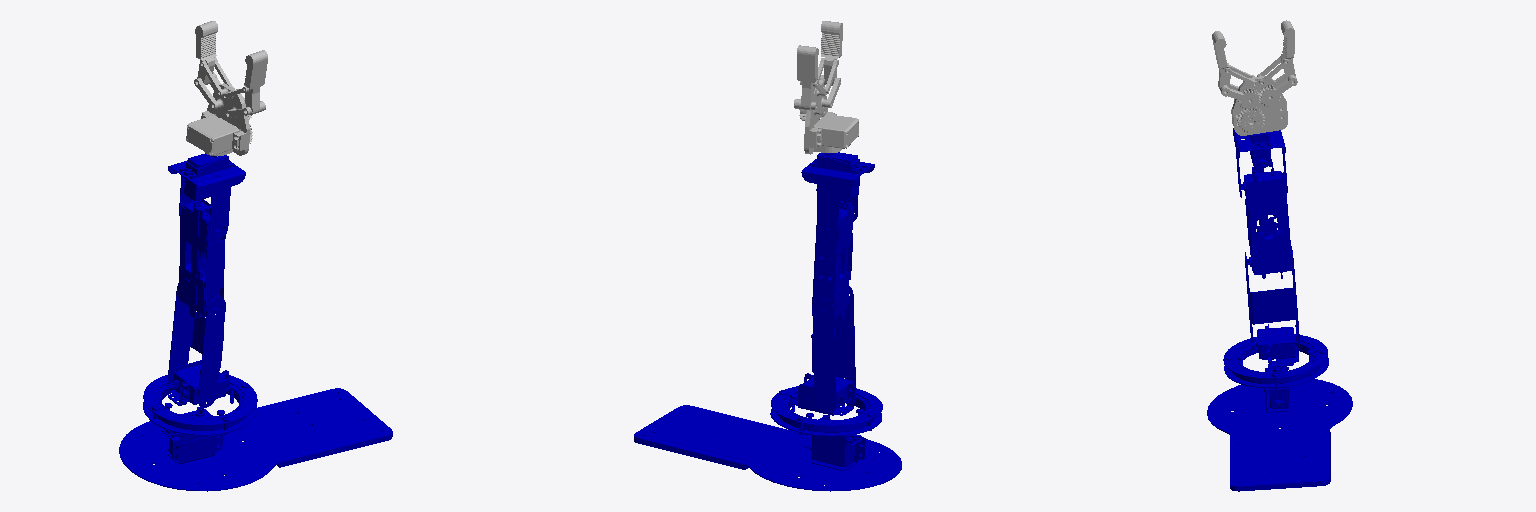
The robot description file, URDF, robot "robotic_arm":
<?xml version="1.0" encoding="utf-8"?>
<robot name="robotic_arm">

  <!-- Material Definitions -->
  <material name="blue">
    <color rgba="0.0 0.0 0.8 1"/>
  </material>
  <material name="silver">
    <color rgba="0.75 0.75 0.75 1"/>
  </material>

  <!-- World Link -->
  <link name="world"/>

  <!-- Base Joint -->
  <joint name="world_to_base" type="fixed">
    <parent link="world"/>
    <child link="base_link"/>
    <origin xyz="0 0 0" rpy="1.5 1.5 1.5"/>
  </joint>

  <!-- Base Link -->
  <link name="base_link">
    <inertial>
      <origin xyz="-0.035398 -0.0004353 0.027453" rpy="0 0 0"/>
      <mass value="0.39671"/>
      <inertia
        ixx="0.00092742"
        ixy="-4.6465E-07"
        ixz="3.0759E-08"
        iyy="0.00057216"
        iyz="1.5079E-07"
        izz="0.00037377"/>
    </inertial>
    <visual>
      <origin xyz="0 0 0" rpy="0 0 0"/>
      <geometry>
        <mesh filename="package://arm_description/meshes/base_link.STL"/>
      </geometry>
      <material name="blue"/>
    </visual>
    <collision>
      <origin xyz="0 0 0" rpy="0 0 0"/>
      <geometry>
        <mesh filename="package://arm_description/meshes/base_link.STL"/>
      </geometry>
    </collision>
  </link>

  <!-- Rotating Base Link -->
  <link name="rotating_base_link">
    <inertial>
      <origin xyz="0.000158275887253499 0.027492254844178 -0.00611871263232042" rpy="0 0 0"/>
      <mass value="0.0561612792514196"/>
      <inertia
        ixx="9.9128401791064E-06"
        ixy="2.12663345089064E-11"
        ixz="3.39707661438049E-08"
        iyy="1.76973775421821E-05"
        iyz="4.60310716010097E-07"
        izz="1.32217491388007E-05"/>
    </inertial>
    <visual>
      <origin xyz="0 0 0" rpy="0 0 0"/>
      <geometry>
        <mesh filename="package://arm_description/meshes/rotating_base_link.STL"/>
      </geometry>
      <material name="blue"/>
    </visual>
    <collision>
      <origin xyz="0 0 0" rpy="0 0 0"/>
      <geometry>
        <mesh filename="package://arm_description/meshes/rotating_base_link.STL"/>
      </geometry>
    </collision>
  </link>

  <!-- Rotating Base Joint -->
  <joint name="rotating_base_joint" type="revolute">
    <origin xyz="-0.0466999999999999 0 0" rpy="0 -1.52754450035515 1.5707963267949"/>
    <parent link="base_link"/>
    <child link="rotating_base_link"/>
    <axis xyz="0 1 0"/>
    <limit lower="-1.57" upper="1.220" effort="100" velocity="2"/>
  </joint>

  <!-- Shoulder Link -->
  <link name="shoulder_link">
    <inertial>
      <origin xyz="0.05 0.00141746277739371 -0.00395375026056261" rpy="0 0 0"/>
      <mass value="0.0422835365975949"/>
      <inertia
        ixx="2.5539223828081E-05"
        ixy="5.2304284492953E-20"
        ixz="5.09708693455176E-21"
        iyy="3.9772332084034E-05"
        iyz="-6.979081923206E-08"
        izz="5.89921114741114E-05"/>
    </inertial>
    <visual>
      <origin xyz="0 0 0" rpy="0 0 0"/>
      <geometry>
        <mesh filename="package://arm_description/meshes/shoulder_link.STL"/>
      </geometry>
      <material name="blue"/>
    </visual>
    <collision>
      <origin xyz="0 0 0" rpy="0 0 0"/>
      <geometry>
        <mesh filename="package://arm_description/meshes/shoulder_link.STL"/>
      </geometry>
    </collision>
  </link>

  <!-- Shoulder Joint -->
  <joint name="shoulder_joint" type="revolute">
    <origin xyz="-0.00949999999999954 0.0308700000000001 0" rpy="-1.5 0 1.5"/>
    <parent link="rotating_base_link"/>
    <child link="shoulder_link"/>
    <axis xyz="0 1 0"/>
    <limit lower="-1.308" upper="0.610" effort="100" velocity="2"/>
  </joint>

  <!-- Elbow Link -->
  <link name="elbow_link">
    <inertial>
      <origin xyz="-0.0450025328071686 -0.0042809747594438 -0.00130547754639812" rpy="0 0 0"/>
      <mass value="0.13493321141733"/>
      <inertia
        ixx="3.06279251143249E-05"
        ixy="1.20337731418417E-09"
        ixz="-1.91215180545226E-09"
        iyy="8.18401391205364E-05"
        iyz="1.06896103680731E-06"
        izz="0.000101277084508677"/>
    </inertial>
    <visual>
      <origin xyz="0 0 0" rpy="0 0 0"/>
      <geometry>
        <mesh filename="package://arm_description/meshes/elbow_link.STL"/>
      </geometry>
      <material name="blue"/>
    </visual>
    <collision>
      <origin xyz="0 0 0" rpy="0 0 0"/>
      <geometry>
        <mesh filename="package://arm_description/meshes/elbow_link.STL"/>
      </geometry>
    </collision>
  </link>

  <!-- Elbow Joint -->
  <joint name="elbow_joint" type="revolute">
    <origin xyz="0.1 0 0" rpy="0 0.080837952 3.14159265358978"/>
    <parent link="shoulder_link"/>
    <child link="elbow_link"/>
    <axis xyz="0 1 0"/>
    <limit lower="-1.57" upper="1.57" effort="100" velocity="2"/>
  </joint>

  <!-- Forearm Link -->
  <link name="forearm_link">
    <inertial>
      <origin xyz="0.0010832320248741 -0.047774444639081 -0.000231064174041173" rpy="0 0 0"/>
      <mass value="0.0447180559582269"/>
      <inertia
        ixx="1.67225851396217E-05"
        ixy="-1.16841164754521E-07"
        ixz="-2.11846893656155E-11"
        iyy="1.4108277215624E-05"
        iyz="-3.39709530009559E-08"
        izz="1.67748719855516E-05"/>
    </inertial>
    <visual>
      <origin xyz="0 0 0" rpy="0 0 0"/>
      <geometry>
        <mesh filename="package://arm_description/meshes/forearm_link.STL"/>
      </geometry>
      <material name="blue"/>
    </visual>
    <collision>
      <origin xyz="0 0 0" rpy="0 0 0"/>
      <geometry>
        <mesh filename="package://arm_description/meshes/forearm_link.STL"/>
      </geometry>
    </collision>
  </link>

  <!-- Forearm Joint -->
  <joint name="forearm_joint" type="revolute">
    <origin xyz="-0.0899999999999956 0 0" rpy="0.040178506 0 -1.57079632679489"/>
    <parent link="elbow_link"/>
    <child link="forearm_link"/>
    <axis xyz="1 0 0"/>
    <limit lower="-1.57" upper="1.57" effort="100" velocity="2"/>
  </joint>

  <!-- Wrist Link -->
  <link name="wrist_link">
    <inertial>
      <origin xyz="0.0190989125713327 0.00061469939040844 0.00252312799008259" rpy="0 0 0"/>
      <mass value="0.0529522848326195"/>
      <inertia
        ixx="1.10404885697885E-05"
        ixy="-1.53962728731698E-07"
        ixz="-9.76735867241465E-07"
        iyy="1.00687044394914E-05"
        iyz="-3.98653063319089E-07"
        izz="1.82604593599498E-05"/>
    </inertial>
    <visual>
      <origin xyz="0 0 0" rpy="0 0 0"/>
      <geometry>
        <mesh filename="package://arm_description/meshes/wrist_link.STL"/>
      </geometry>
      <material name="silver"/>
    </visual>
    <collision>
      <origin xyz="0 0 0" rpy="0 0 0"/>
      <geometry>
        <mesh filename="package://arm_description/meshes/wrist_link.STL"/>
      </geometry>
    </collision>
  </link>

  <!-- Wrist Joint -->
  <joint name="wrist_joint" type="revolute">
    <origin xyz="0.00099999999999714 -0.0795710619584145 -0.0097500000000017" rpy="-3.1124530411889 0 -1.5707963267949"/>
    <parent link="forearm_link"/>
    <child link="wrist_link"/>
    <axis xyz="1 0 0"/>
    <limit lower="-1.57" upper="1.57" effort="100" velocity="2"/>
  </joint>

  <!-- Gripper Left Link -->
  <link name="gripper_left_link">
    <inertial>
      <origin xyz="0.0484172860271485 -0.0241584658945902 0.0142380102355266" rpy="0 0 0"/>
      <mass value="0.0163529802377136"/>
      <inertia
        ixx="2.95937890453479E-06"
        ixy="1.60740985116118E-06"
        ixz="4.04413653565078E-09"
        iyy="2.27972601870315E-06"
        iyz="1.56748388623883E-12"
        izz="4.68843868201044E-06"/>
    </inertial>
    <visual>
      <origin xyz="0 0 0" rpy="0 0 0"/>
      <geometry>
        <mesh filename="package://arm_description/meshes/gripper_left_link.STL"/>
      </geometry>
      <material name="silver"/>
    </visual>
    <collision>
      <origin xyz="0 0 0" rpy="0 0 0"/>
      <geometry>
        <mesh filename="package://arm_description/meshes/gripper_left_link.STL"/>
      </geometry>
    </collision>
  </link>

  <!-- Gripper Left Joint -->
  <joint name="gripper_left_joint" type="revolute">
    <origin xyz="0.031104 0 0" rpy="0.023878 -0.042377 1.0575"/>
    <parent link="wrist_link"/>
    <child link="gripper_left_link"/>
    <axis xyz="0 0 1"/>
    <limit lower="-1.57" upper="1.57" effort="100" velocity="2"/>
    <mimic joint="gripper_right_joint" multiplier="1" offset="0"/>
  </joint>

  <!-- Gripper Right Link -->
  <link name="gripper_right_link">
    <inertial>
      <origin xyz="-0.0375860640609017 -0.0369591692006576 -0.0142262545696464" rpy="0 0 0"/>
      <mass value="0.016328263992727"/>
      <inertia
        ixx="1.31332905769687E-06"
        ixy="-9.9717065345883E-07"
        ixz="1.4036038701819E-09"
        iyy="3.92463290581539E-06"
        iyz="3.79932405367648E-09"
        izz="4.68749882724247E-06"/>
    </inertial>
    <visual>
      <origin xyz="0 0 0" rpy="0 0 0"/>
      <geometry>
        <mesh filename="package://arm_description/meshes/gripper_right_link.STL"/>
      </geometry>
      <material name="silver"/>
    </visual>
    <collision>
      <origin xyz="0 0 0" rpy="0 0 0"/>
      <geometry>
        <mesh filename="package://arm_description/meshes/gripper_right_link.STL"/>
      </geometry>
    </collision>
  </link>

  <!-- Gripper Right Joint -->
  <joint name="gripper_right_joint" type="revolute">
    <origin xyz="0.033035 0 0" rpy="3.0936 0.0076308 -2.9842"/>
    <parent link="wrist_link"/>
    <child link="gripper_right_link"/>
    <axis xyz="0 0 1"/>
    <limit lower="-1.57" upper="1.57" effort="100" velocity="2"/>
  </joint>


</robot>

--- What the picture shows (computed from the rendered views, not written in the file) ---
3 views of the same robot in one strip: view 1: azimuth 30°, elevation 25°; view 2: azimuth 150°, elevation 25°; view 3: azimuth 270°, elevation 25° (orthographic).
Model robotic_arm with 9 links and 8 joints (7 revolute, 1 fixed), rooted at world, posed all joints at 0.
Visible links, largest first — view 1: base_link, elbow_link, shoulder_link, forearm_link, wrist_link, gripper_right_link, rotating_base_link, gripper_left_link; view 2: base_link, shoulder_link, forearm_link, elbow_link, wrist_link, gripper_left_link, gripper_right_link, rotating_base_link; view 3: base_link, elbow_link, shoulder_link, wrist_link, rotating_base_link, gripper_right_link, gripper_left_link, forearm_link.
Boxes of the visible links, x1=… form: base_link: x1=119, y1=372, x2=392, y2=491; elbow_link: x1=178, y1=199, x2=225, y2=319; shoulder_link: x1=168, y1=286, x2=225, y2=407; forearm_link: x1=168, y1=153, x2=245, y2=240; wrist_link: x1=186, y1=83, x2=252, y2=156; gripper_right_link: x1=194, y1=21, x2=234, y2=109; rotating_base_link: x1=165, y1=360, x2=235, y2=415; gripper_left_link: x1=223, y1=50, x2=267, y2=119; base_link: x1=634, y1=386, x2=901, y2=491; shoulder_link: x1=811, y1=287, x2=855, y2=412; forearm_link: x1=801, y1=152, x2=874, y2=238; elbow_link: x1=812, y1=201, x2=853, y2=319; wrist_link: x1=804, y1=83, x2=858, y2=154; gripper_left_link: x1=817, y1=21, x2=842, y2=107; gripper_right_link: x1=794, y1=45, x2=826, y2=120; rotating_base_link: x1=790, y1=373, x2=863, y2=418; base_link: x1=1207, y1=334, x2=1352, y2=491; elbow_link: x1=1239, y1=162, x2=1292, y2=278; shoulder_link: x1=1245, y1=246, x2=1299, y2=352; wrist_link: x1=1231, y1=75, x2=1287, y2=135; rotating_base_link: x1=1237, y1=324, x2=1313, y2=371; gripper_right_link: x1=1257, y1=20, x2=1297, y2=107; gripper_left_link: x1=1212, y1=31, x2=1260, y2=110; forearm_link: x1=1233, y1=128, x2=1287, y2=197.
Bounding box of the posed robot: 0.2781 × 0.1597 × 0.4785 m (x, y, z).
8 mesh visuals loaded from 8 distinct referenced files (8 binary STL).